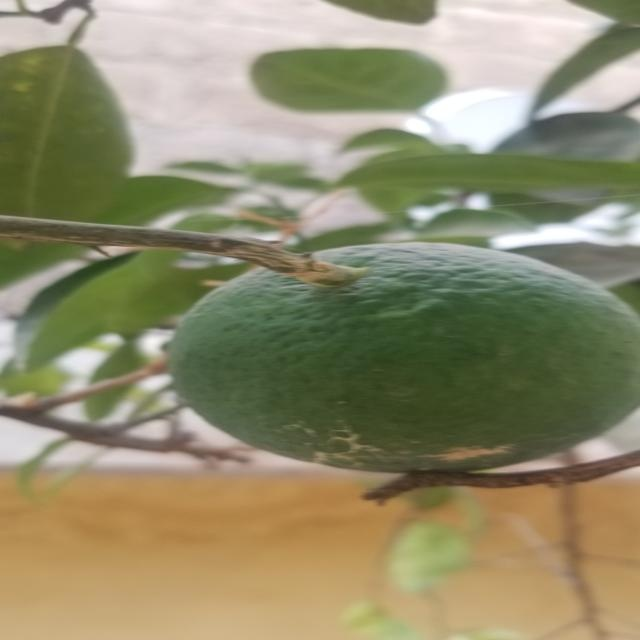agrume: (153, 232, 640, 516)
